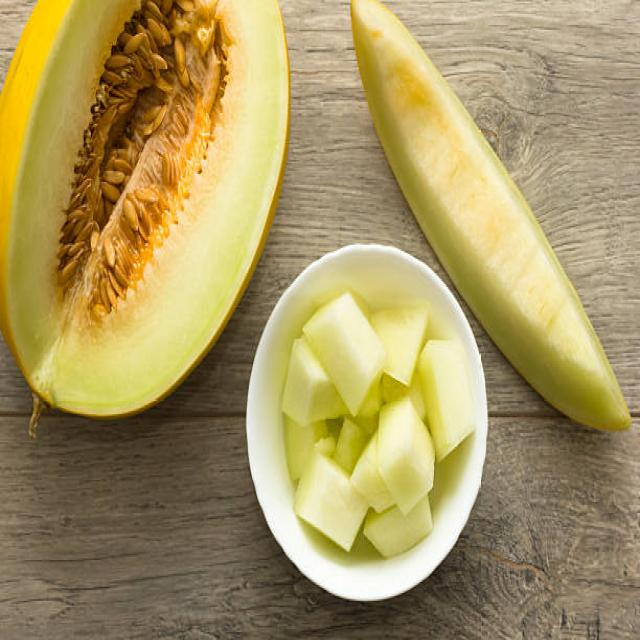melon: (0, 0, 240, 429), (479, 194, 635, 446), (349, 0, 489, 238)
